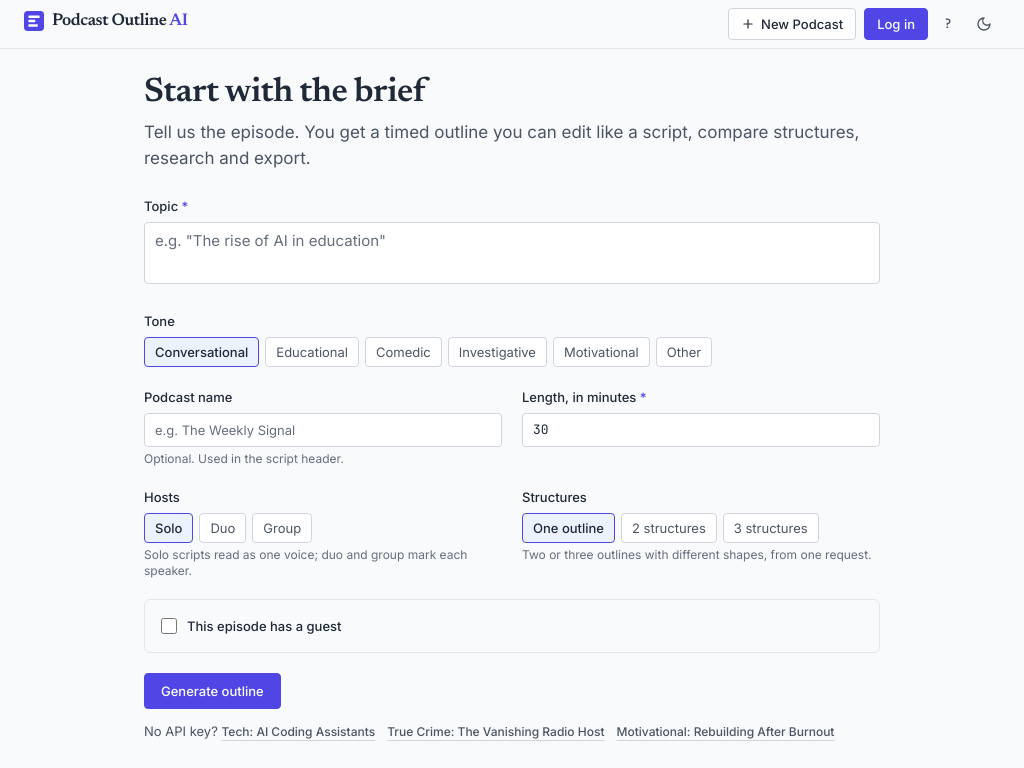
Test: errors the server chose to send are final (no second request that would spend more quota) › an error event with LLM_RATE_LIMITED shows the error card and does not retry with the plain request
Type "Lighthouses" into the text box labelled "Topic *" at {"x": 512, "y": 253}, box [144,222,880,284]
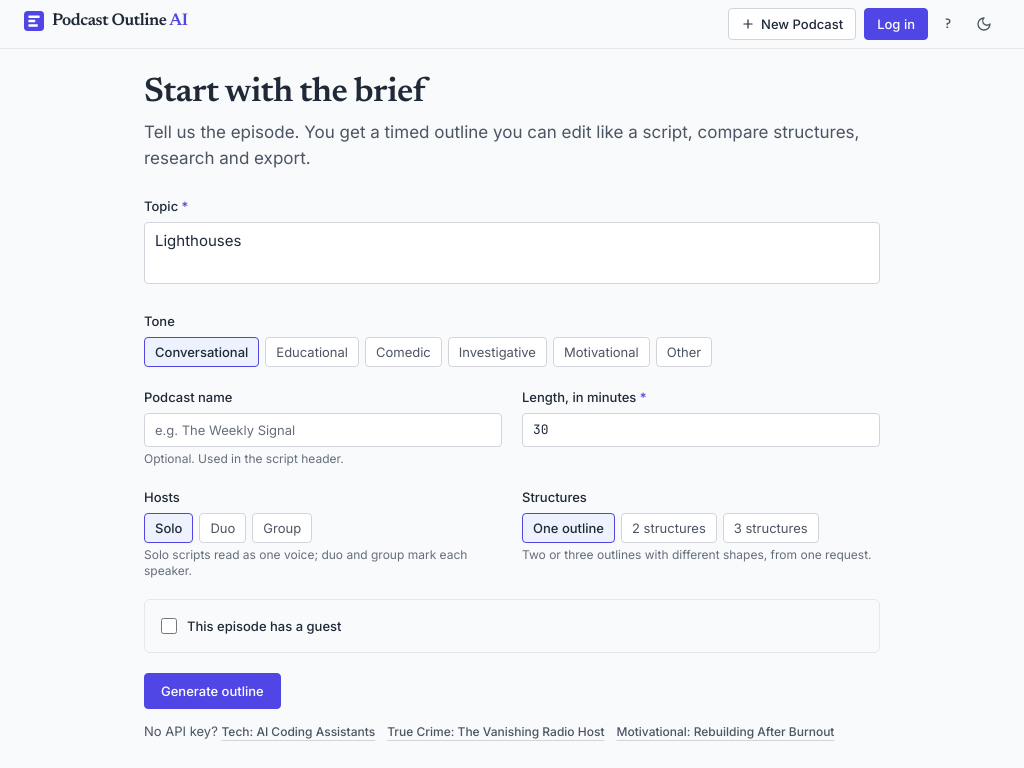
Click the button "Generate outline" at {"x": 212, "y": 691}, box [144,673,281,709]
(page scrolled)
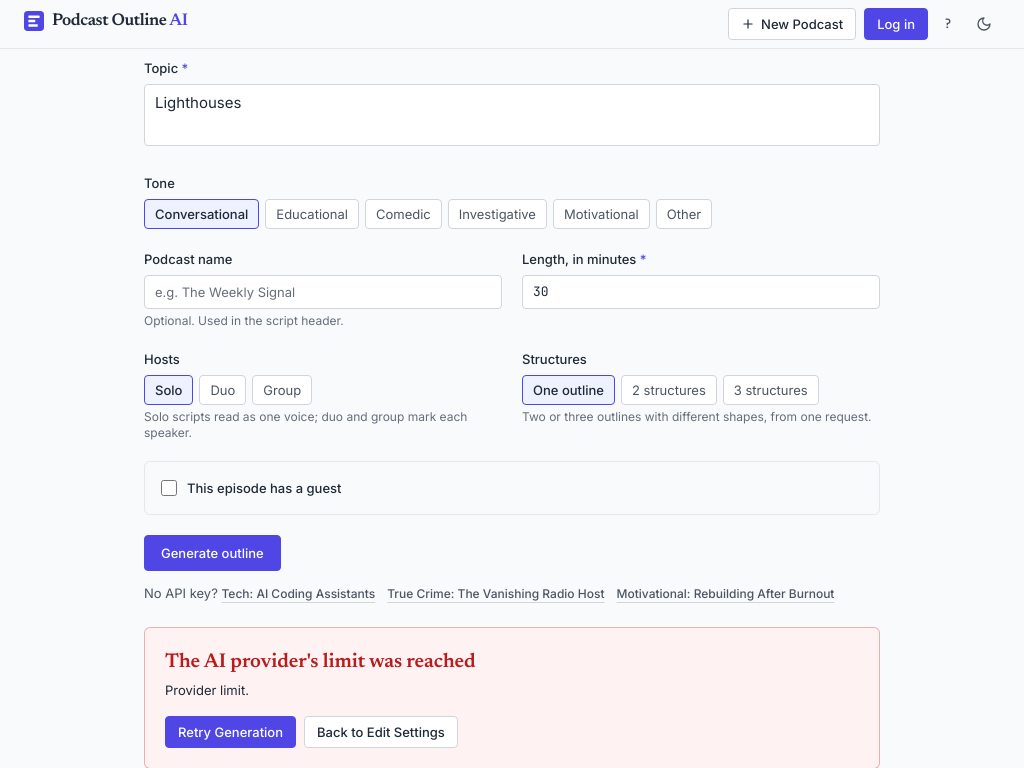
Expected: the heading "The AI provider's limit was reached" is shown, [165,652,476,672]
